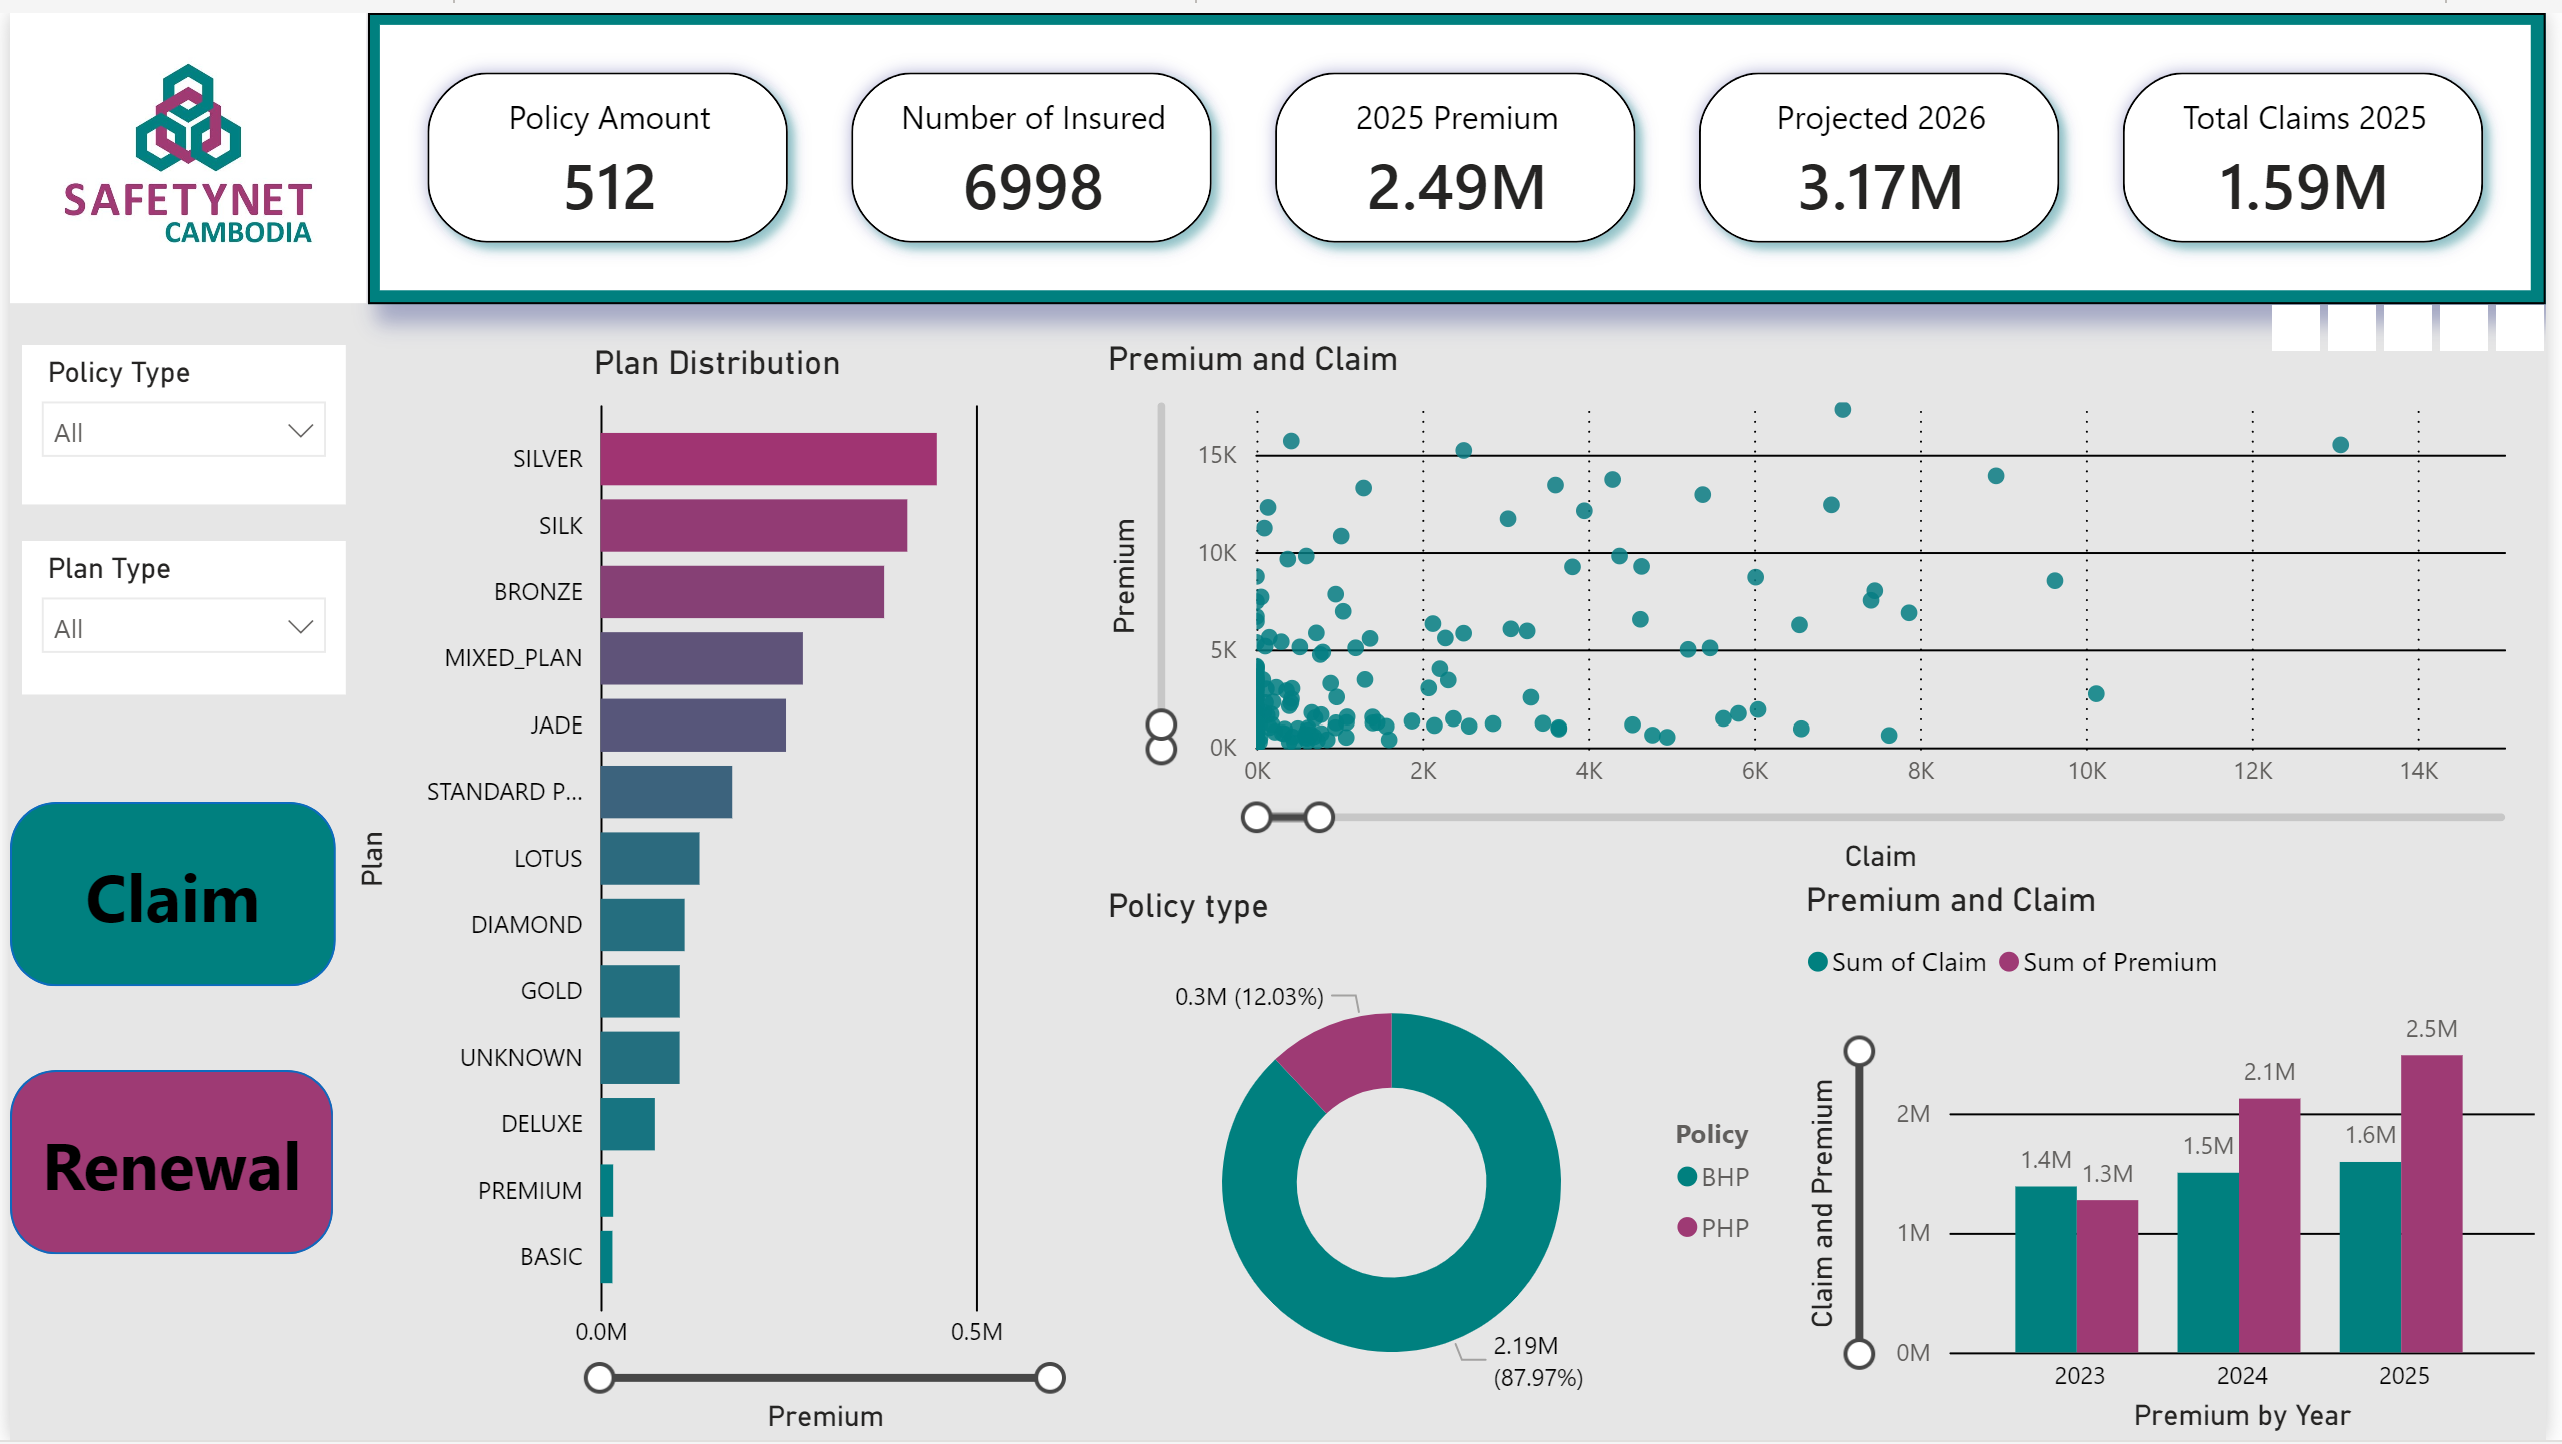

Layout of this report page (visuals, bound fields, positions):
{"tool":"powerbi","page":{"name":"Overall analysis","canvas":[1280,720],"ordinal":0},"visuals":[{"type":"cardVisual","fields":{"Data":["Calculate_data.Policy Count","Sum(Policy_data.insured_no)","Calculate_data.Total Premium 2025","Calculate_data.Impact Premium 2026","Calculate_data.Incurred 2025"]},"box":[180.6,0,1099.4,146.8],"z":0},{"type":"clusteredColumnChart","title":"Premium and Claim","fields":{"Category":["PremiumVSClaim 23-25.Years"],"Y":["Sum(PremiumVSClaim 23-25.Claim)","Sum(PremiumVSClaim 23-25.Premium)"]},"box":[902.2,437,377.8,283.3],"z":1000},{"type":"donutChart","title":"Policy type","fields":{"Y":["Calculate_data.Total Premium 2025"],"Category":["Policy_data.stn_type"]},"box":[549.8,439.8,352.4,280.5],"z":2000},{"type":"barChart","title":"Plan Distribution","fields":{"Category":["Policy_data.plan"],"Y":["Calculate_data.Total Premium 2025"]},"box":[169.2,166.3,375,554],"z":3000},{"type":"scatterChart","title":"Premium and Claim","fields":{"X":["Sum(Policy_data.incurred_2025)"],"Y":["Sum(Policy_data.premium_2025)"],"Category":["Policy_data.policy_no"]},"box":[549.5,164.5,725.4,272.8],"z":4000},{"type":"slicer","fields":{"Values":["Policy_data.plan"]},"box":[5.6,266.4,163.5,77.5],"z":5000},{"type":"slicer","fields":{"Values":["Policy_data.stn_type"]},"box":[5.6,167.8,163.5,80.4],"z":6000},{"type":"image","box":[0,0,179.8,146.6],"z":7000},{"type":"shape","box":[0,397.8,164.5,93.1],"z":8000},{"type":"shape","box":[0,532.9,163.2,93.1],"z":9000}]}

Visuals, with their boxes in screenshot pixels (x1, y1, x2, y2), scaled from the page's 1280x720 canvas onto the 2562x1444 screenshot:
cardVisual - Calculate_data.Policy Count x Sum(Policy_data.insured_no): bbox=(361, 0, 2561, 294)
"Premium and Claim" clusteredColumnChart: bbox=(1806, 876, 2561, 1443)
"Policy type" donutChart: bbox=(1100, 882, 1806, 1443)
"Plan Distribution" barChart: bbox=(339, 334, 1089, 1443)
"Premium and Claim" scatterChart: bbox=(1100, 330, 2552, 877)
slicer - Policy_data.plan: bbox=(11, 534, 338, 690)
slicer - Policy_data.stn_type: bbox=(11, 337, 338, 498)
image: bbox=(0, 0, 360, 294)
shape: bbox=(0, 798, 329, 985)
shape: bbox=(0, 1069, 327, 1255)
